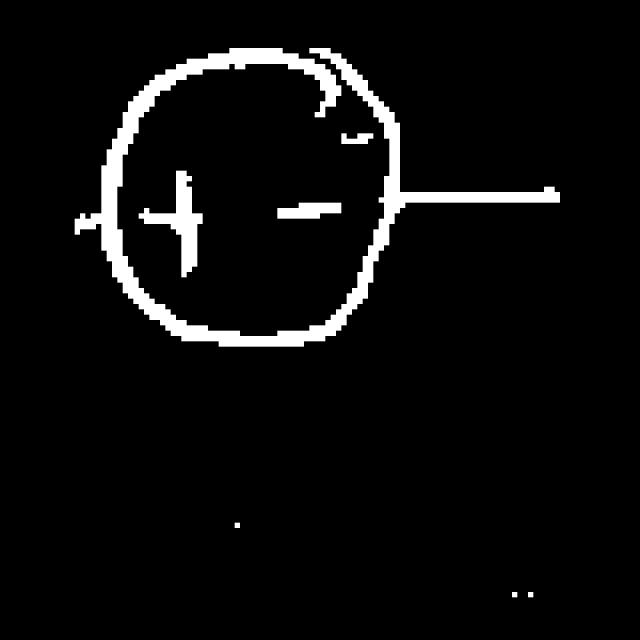voltage_source: (90, 35, 417, 361)
